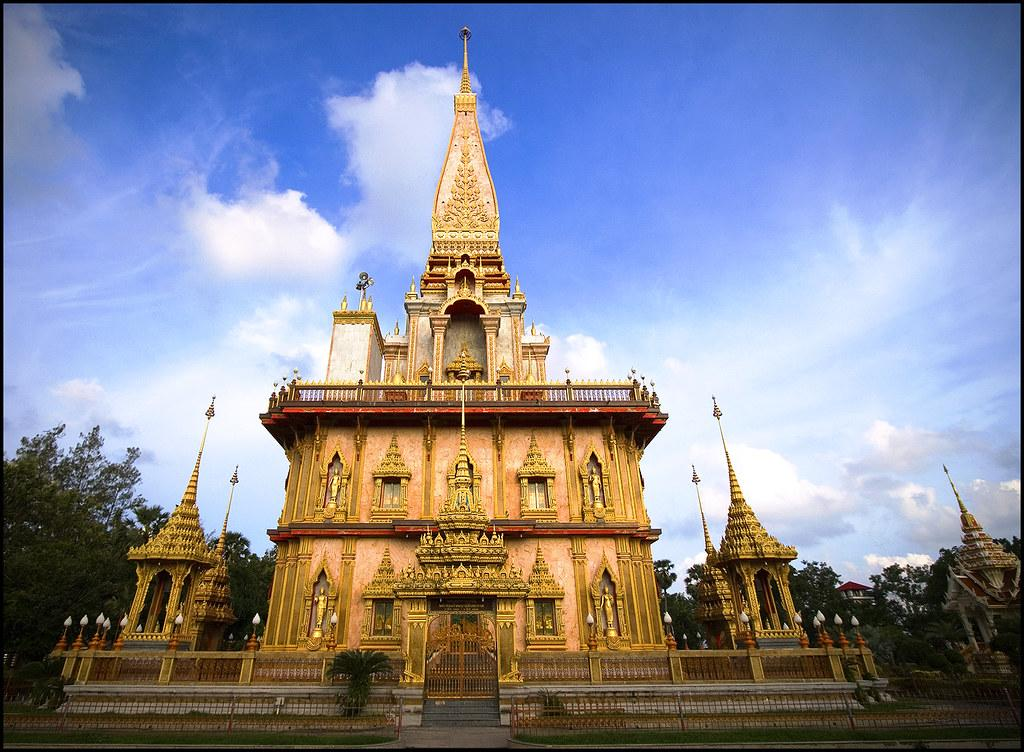temple: (46, 25, 890, 724), (255, 26, 676, 691), (116, 394, 241, 653), (690, 395, 810, 651), (939, 462, 1022, 681)
